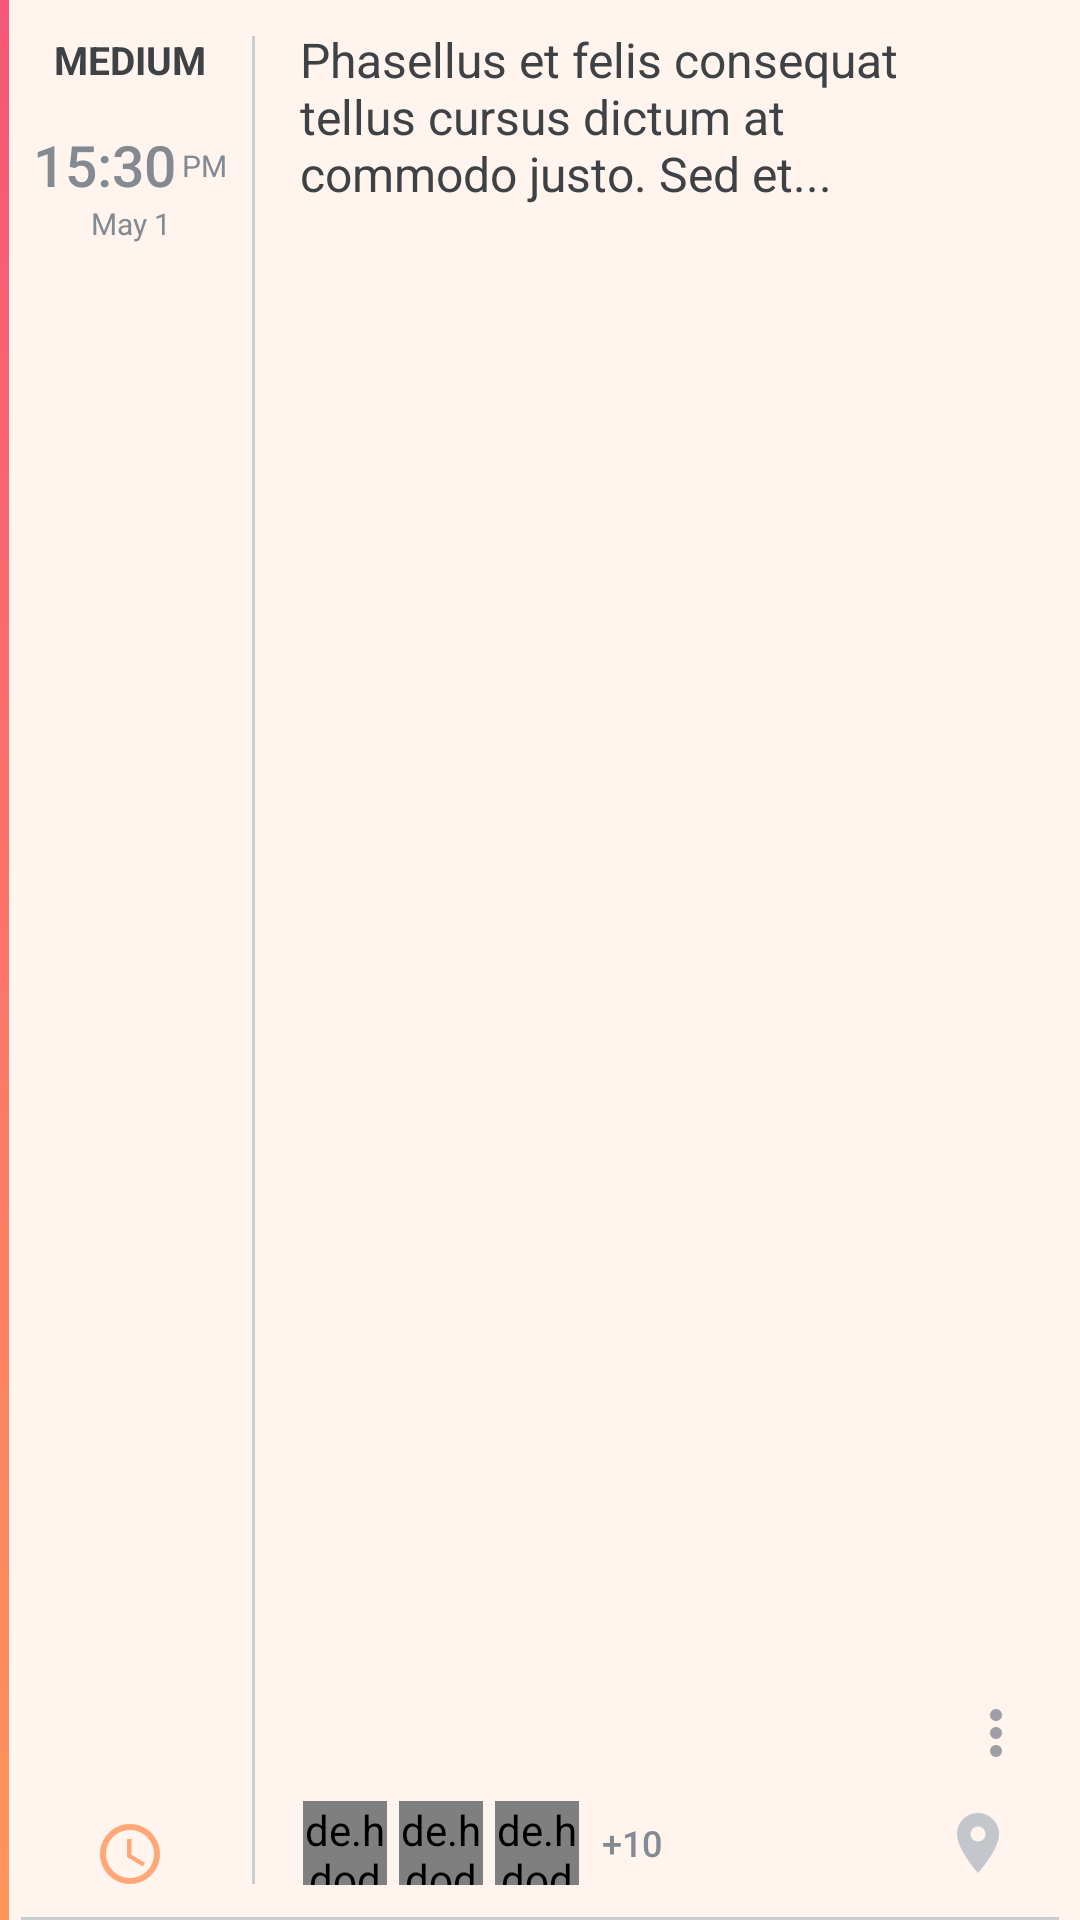

Locate icon controls on the screen. Image size 1080 x 1920, boxes as (x1, y1, x2, y2).
task location: (957, 1813, 999, 1873)
task more: (990, 1709, 1002, 1757)
task time: (100, 1824, 160, 1884)
